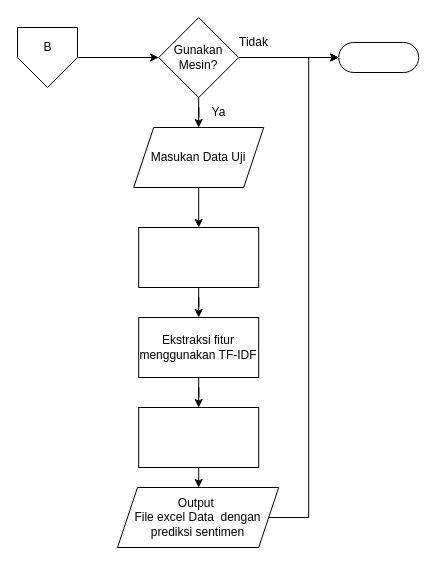
Some shapes in this 437 by 565 pixel diagram are drawn without their labels. The box of each missing label's shape, as (x1, y1, x2, y2) in pixels:
Melakukan prediksi dengan menggunakan model terbaik: (138, 406, 259, 468)
Preprocessing Data: (138, 226, 259, 288)
Selesai: (338, 42, 419, 72)
